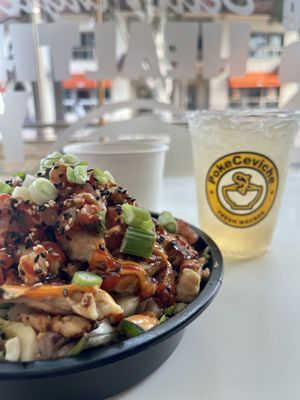pizza: (187, 111, 299, 263)
sushi: (0, 146, 224, 397)
